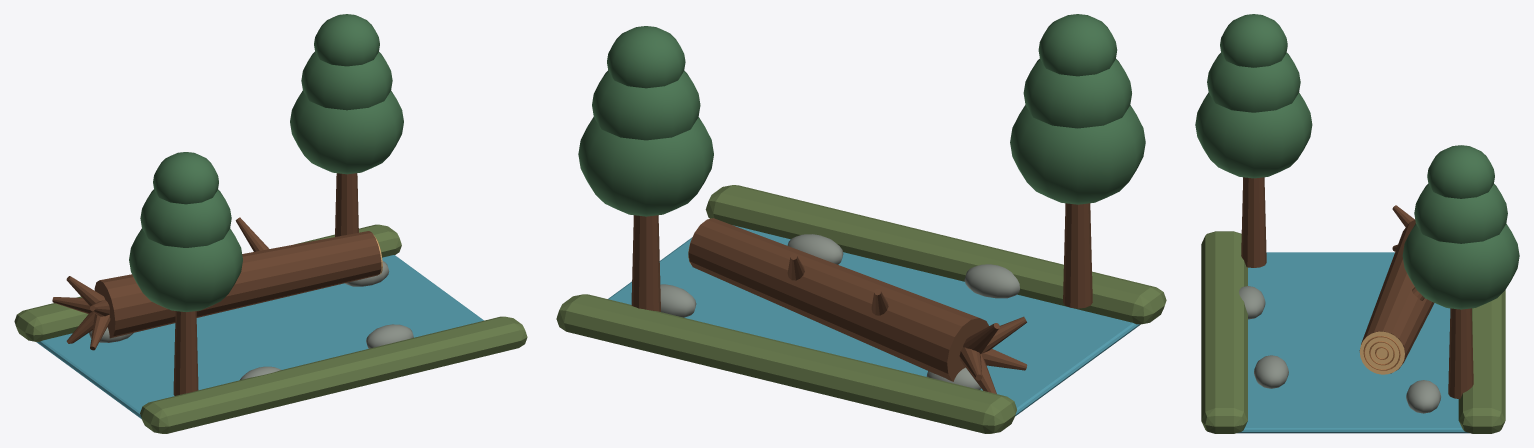
File: windfallen-tree.glb
3 views of the same model, side by side, from view 1: azimuth 30°, elevation 25°; view 2: azimuth 150°, elevation 25°; view 3: azimuth 270°, elevation 25° (orthographic). The views are drawn at different scales.
Visible parts, largest first — view 1: Stream, Mossy bank, Windfallen trunk, Leaf canopy.003, Leaf canopy, Leaf canopy.001, Leaf canopy.004, Mossy bank.001, Leaf canopy.005, Leaf canopy.002, Standing tree, Standing tree.001 (+1 smaller); view 2: Stream, Mossy bank.001, Windfallen trunk, Mossy bank, Leaf canopy.003, Leaf canopy, Leaf canopy.001, Leaf canopy.004, Leaf canopy.002, Leaf canopy.005, Standing tree, Standing tree.001 (+3 smaller); view 3: Stream, Mossy bank, Leaf canopy, Leaf canopy.003, Mossy bank.001, Leaf canopy.004, Leaf canopy.001, Windfallen trunk, Leaf canopy.002, Leaf canopy.005, Standing tree, Standing tree.001 (+4 smaller).
Part boxes in pixels (<box>): Stream: <box>36,255,483,419</box>; Mossy bank: <box>140,316,527,433</box>; Windfallen trunk: <box>94,231,381,338</box>; Leaf canopy.003: <box>290,90,403,174</box>; Leaf canopy: <box>129,228,242,311</box>; Leaf canopy.001: <box>140,189,231,247</box>; Leaf canopy.004: <box>301,52,392,110</box>; Mossy bank.001: <box>14,224,401,341</box>; Leaf canopy.005: <box>314,14,379,66</box>; Leaf canopy.002: <box>153,152,218,204</box>; Standing tree: <box>173,311,198,395</box>; Standing tree.001: <box>335,173,358,236</box>; Stream: <box>608,225,1140,416</box>; Mossy bank.001: <box>556,294,1016,433</box>; Windfallen trunk: <box>688,218,988,381</box>; Mossy bank: <box>705,185,1166,324</box>; Leaf canopy.003: <box>578,117,713,216</box>; Leaf canopy: <box>1010,105,1145,204</box>; Leaf canopy.001: <box>1023,58,1131,128</box>; Leaf canopy.004: <box>592,70,700,140</box>; Leaf canopy.002: <box>1038,14,1117,76</box>; Leaf canopy.005: <box>607,26,685,88</box>; Standing tree: <box>1063,203,1092,308</box>; Standing tree.001: <box>631,215,660,311</box>; Stream: <box>1237,252,1469,433</box>; Mossy bank: <box>1201,231,1247,433</box>; Leaf canopy: <box>1195,92,1312,178</box>; Leaf canopy.003: <box>1402,223,1519,309</box>; Mossy bank.001: <box>1458,290,1505,433</box>; Leaf canopy.004: <box>1414,183,1507,243</box>; Leaf canopy.001: <box>1207,52,1300,112</box>; Windfallen trunk: <box>1359,219,1434,373</box>; Leaf canopy.002: <box>1220,14,1287,67</box>; Leaf canopy.005: <box>1427,145,1494,198</box>; Standing tree: <box>1241,177,1266,267</box>; Standing tree.001: <box>1448,308,1473,398</box>.
Bounding box in the file's own units: 3.8 × 2.46 × 2.77.
